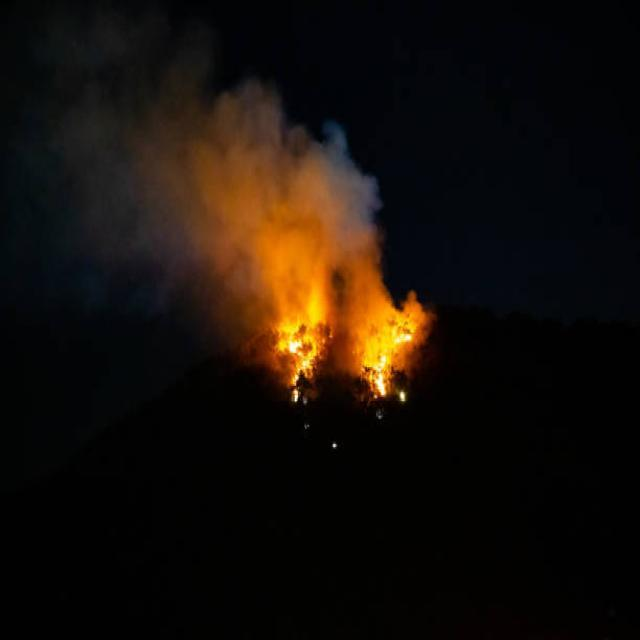Fire: (354, 262, 428, 396), (264, 268, 332, 404)
Smoke: (12, 26, 386, 364)
